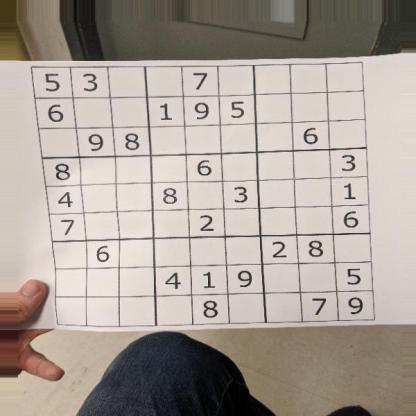sudoku: (28, 60, 380, 326)
